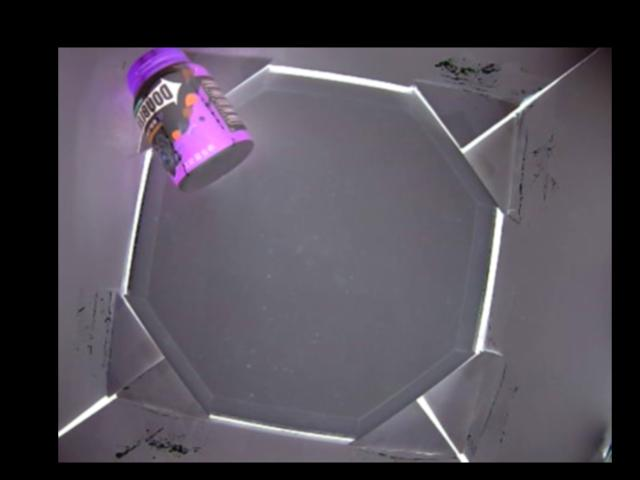Bottle: (124, 48, 255, 189)
